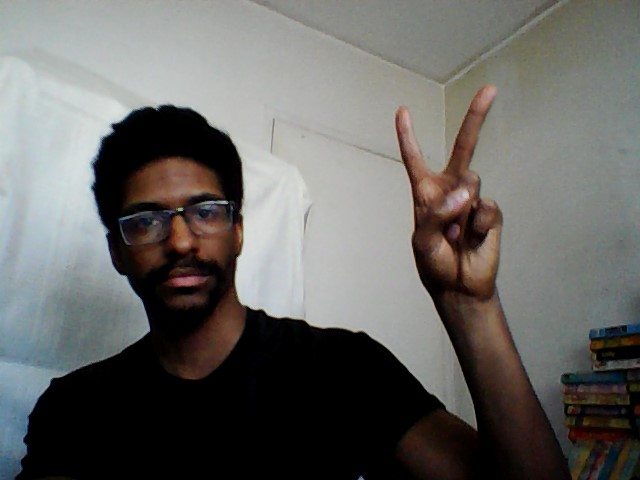v: (390, 79, 509, 308)
